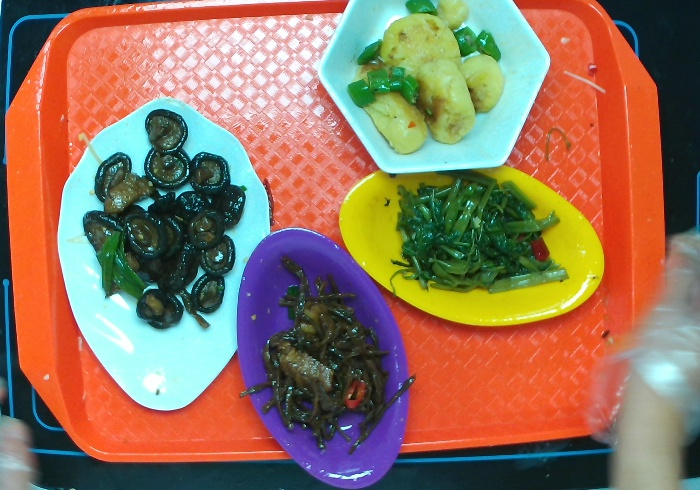RJxy-Bai_Ye_Pan: (52, 94, 274, 415)
RJxy-Fen_Hong_Tuo_Yuan: (235, 224, 413, 490)
RJxy-Huang_Se_Tuo_Yuan: (332, 153, 603, 329)
RJxy-Liu_Jiao_Wan: (315, 1, 555, 180)
